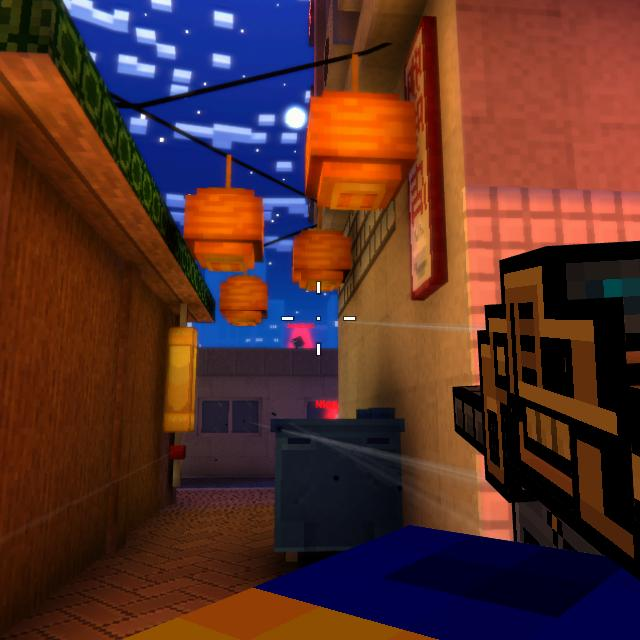Enemy: (288, 336, 310, 350)
